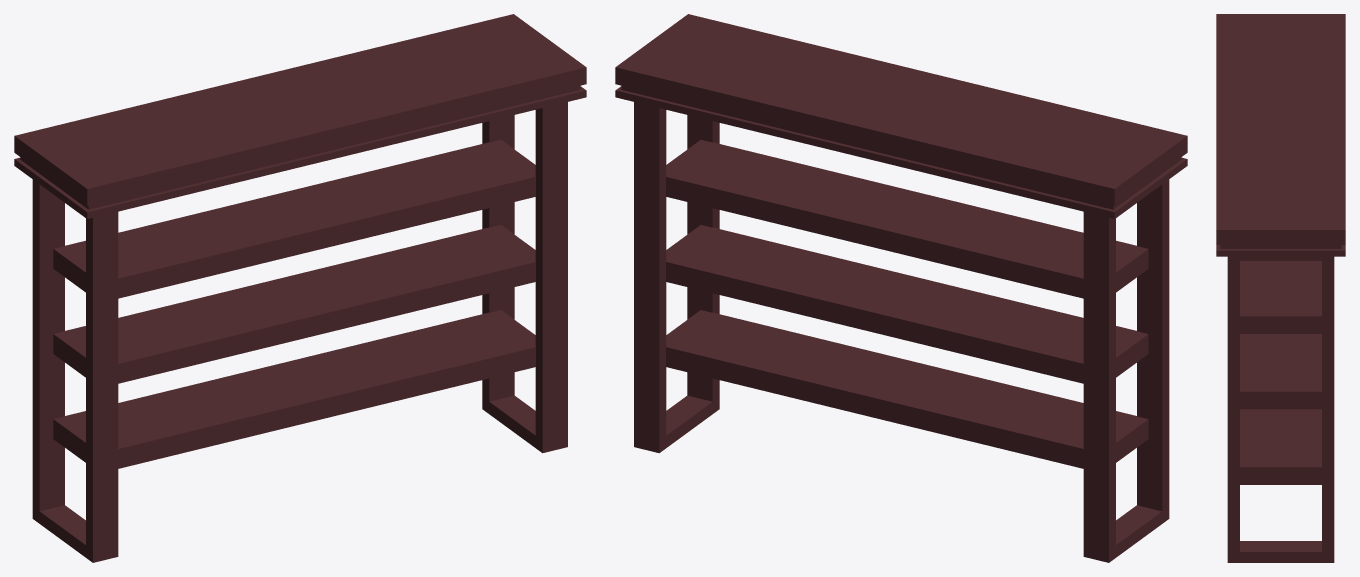
Rendered from SM_Shelf_Book_Wider_1_03.fbx.
The picture shows the model from 3 angles, left to right: view 1: azimuth 30°, elevation 25°; view 2: azimuth 150°, elevation 25°; view 3: azimuth 270°, elevation 25°; orthographic projection. The views are drawn at different scales.
Parts seen in each view (by area): view 1: SM_Shelf_Book_Wider_1_03; view 2: SM_Shelf_Book_Wider_1_03; view 3: SM_Shelf_Book_Wider_1_03.
Boxes of the visible parts, x1=… form: SM_Shelf_Book_Wider_1_03: x1=14, y1=14, x2=586, y2=562; SM_Shelf_Book_Wider_1_03: x1=615, y1=14, x2=1187, y2=562; SM_Shelf_Book_Wider_1_03: x1=1216, y1=14, x2=1345, y2=562.
Size of the model in its own units: 292 by 214 by 73.83.
